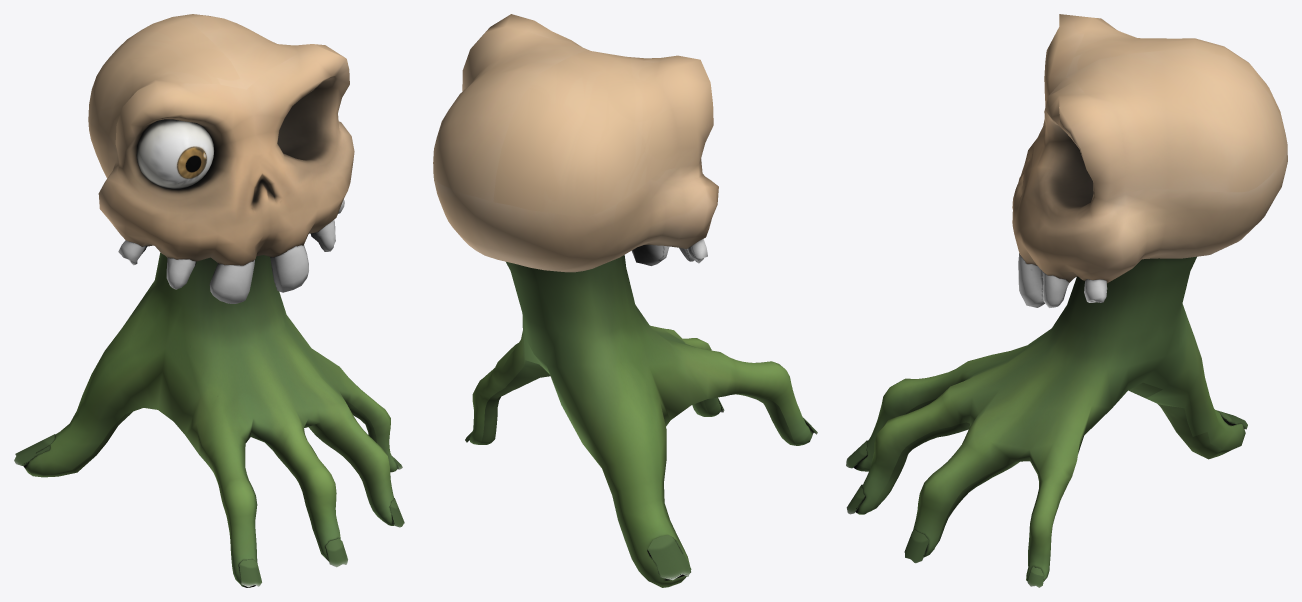
Rendered from danhand.fbx.
The picture shows the model from 3 angles, left to right: view 1: azimuth 30°, elevation 25°; view 2: azimuth 150°, elevation 25°; view 3: azimuth 270°, elevation 25°; orthographic projection. The views are drawn at different scales.
Parts seen in each view (by area): view 1: danhand; view 2: danhand; view 3: danhand.
Part boxes in pixels (box(x1,y1,x2,y2)): danhand: box(14, 14, 404, 587); danhand: box(433, 14, 817, 587); danhand: box(846, 14, 1287, 587).
Size of the model in its own units: 2741 by 3810 by 3252.
